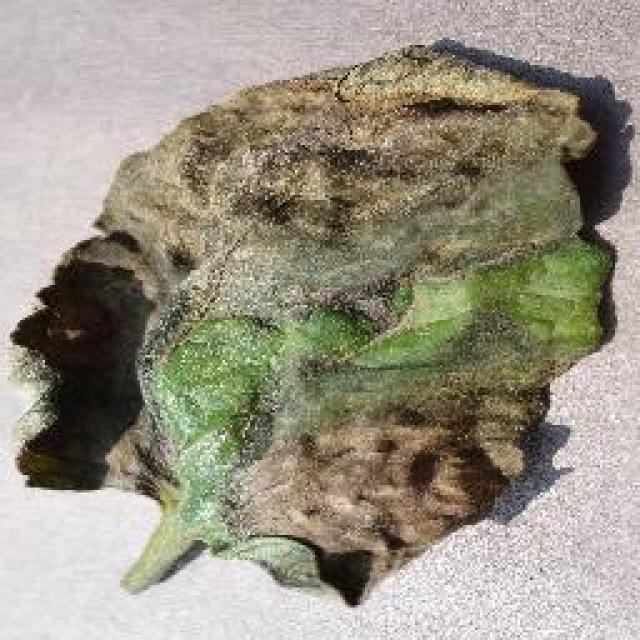Tomato___Late_blight: (3, 45, 617, 611)
